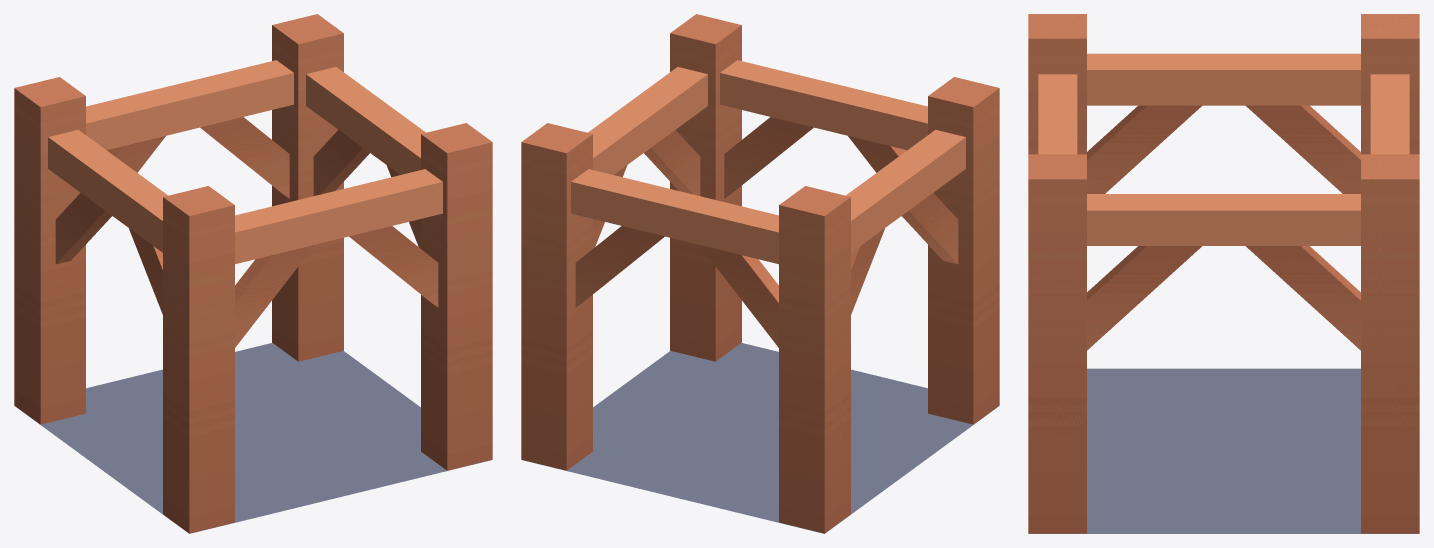
The model's file is floor_tp.glb.
3 views of the same model, side by side, from view 1: azimuth 30°, elevation 25°; view 2: azimuth 150°, elevation 25°; view 3: azimuth 270°, elevation 25° (orthographic). The views are drawn at different scales.
Visible parts, largest first — view 1: floor_tp; view 2: floor_tp; view 3: floor_tp.
Part boxes in pixels (<box>): floor_tp: <box>14,14,492,533</box>; floor_tp: <box>521,14,999,533</box>; floor_tp: <box>1028,14,1419,533</box>.
Bounding box in the file's own units: 1 × 1 × 1.
2 materials, 2 textured.
